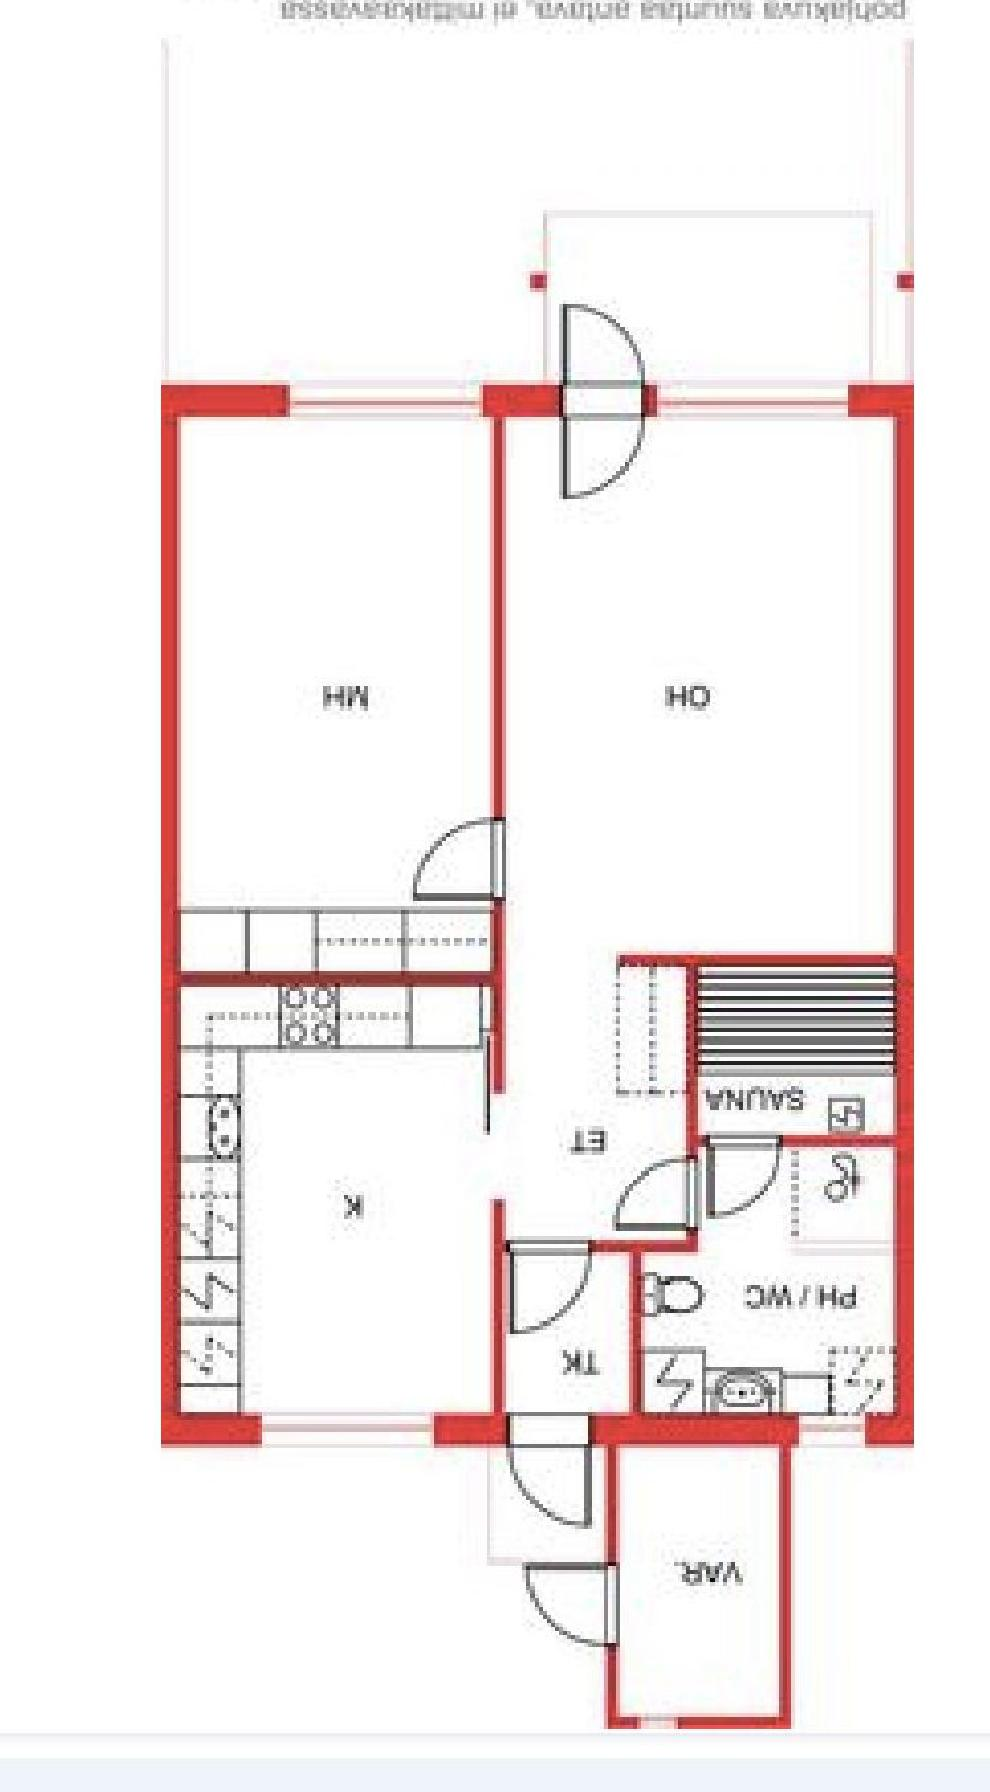door: (557, 302, 652, 502), (504, 1410, 594, 1529), (404, 813, 513, 902), (519, 1560, 623, 1648), (508, 1242, 588, 1332), (708, 1134, 782, 1218), (612, 1153, 699, 1223)
window: (287, 380, 480, 413), (260, 1412, 434, 1448), (658, 384, 849, 414), (801, 1414, 864, 1445), (638, 1712, 677, 1729)
zone: (179, 414, 894, 1413), (177, 414, 489, 972), (640, 1147, 895, 1406), (547, 216, 867, 384), (614, 1447, 777, 1716), (506, 1254, 630, 1410)
